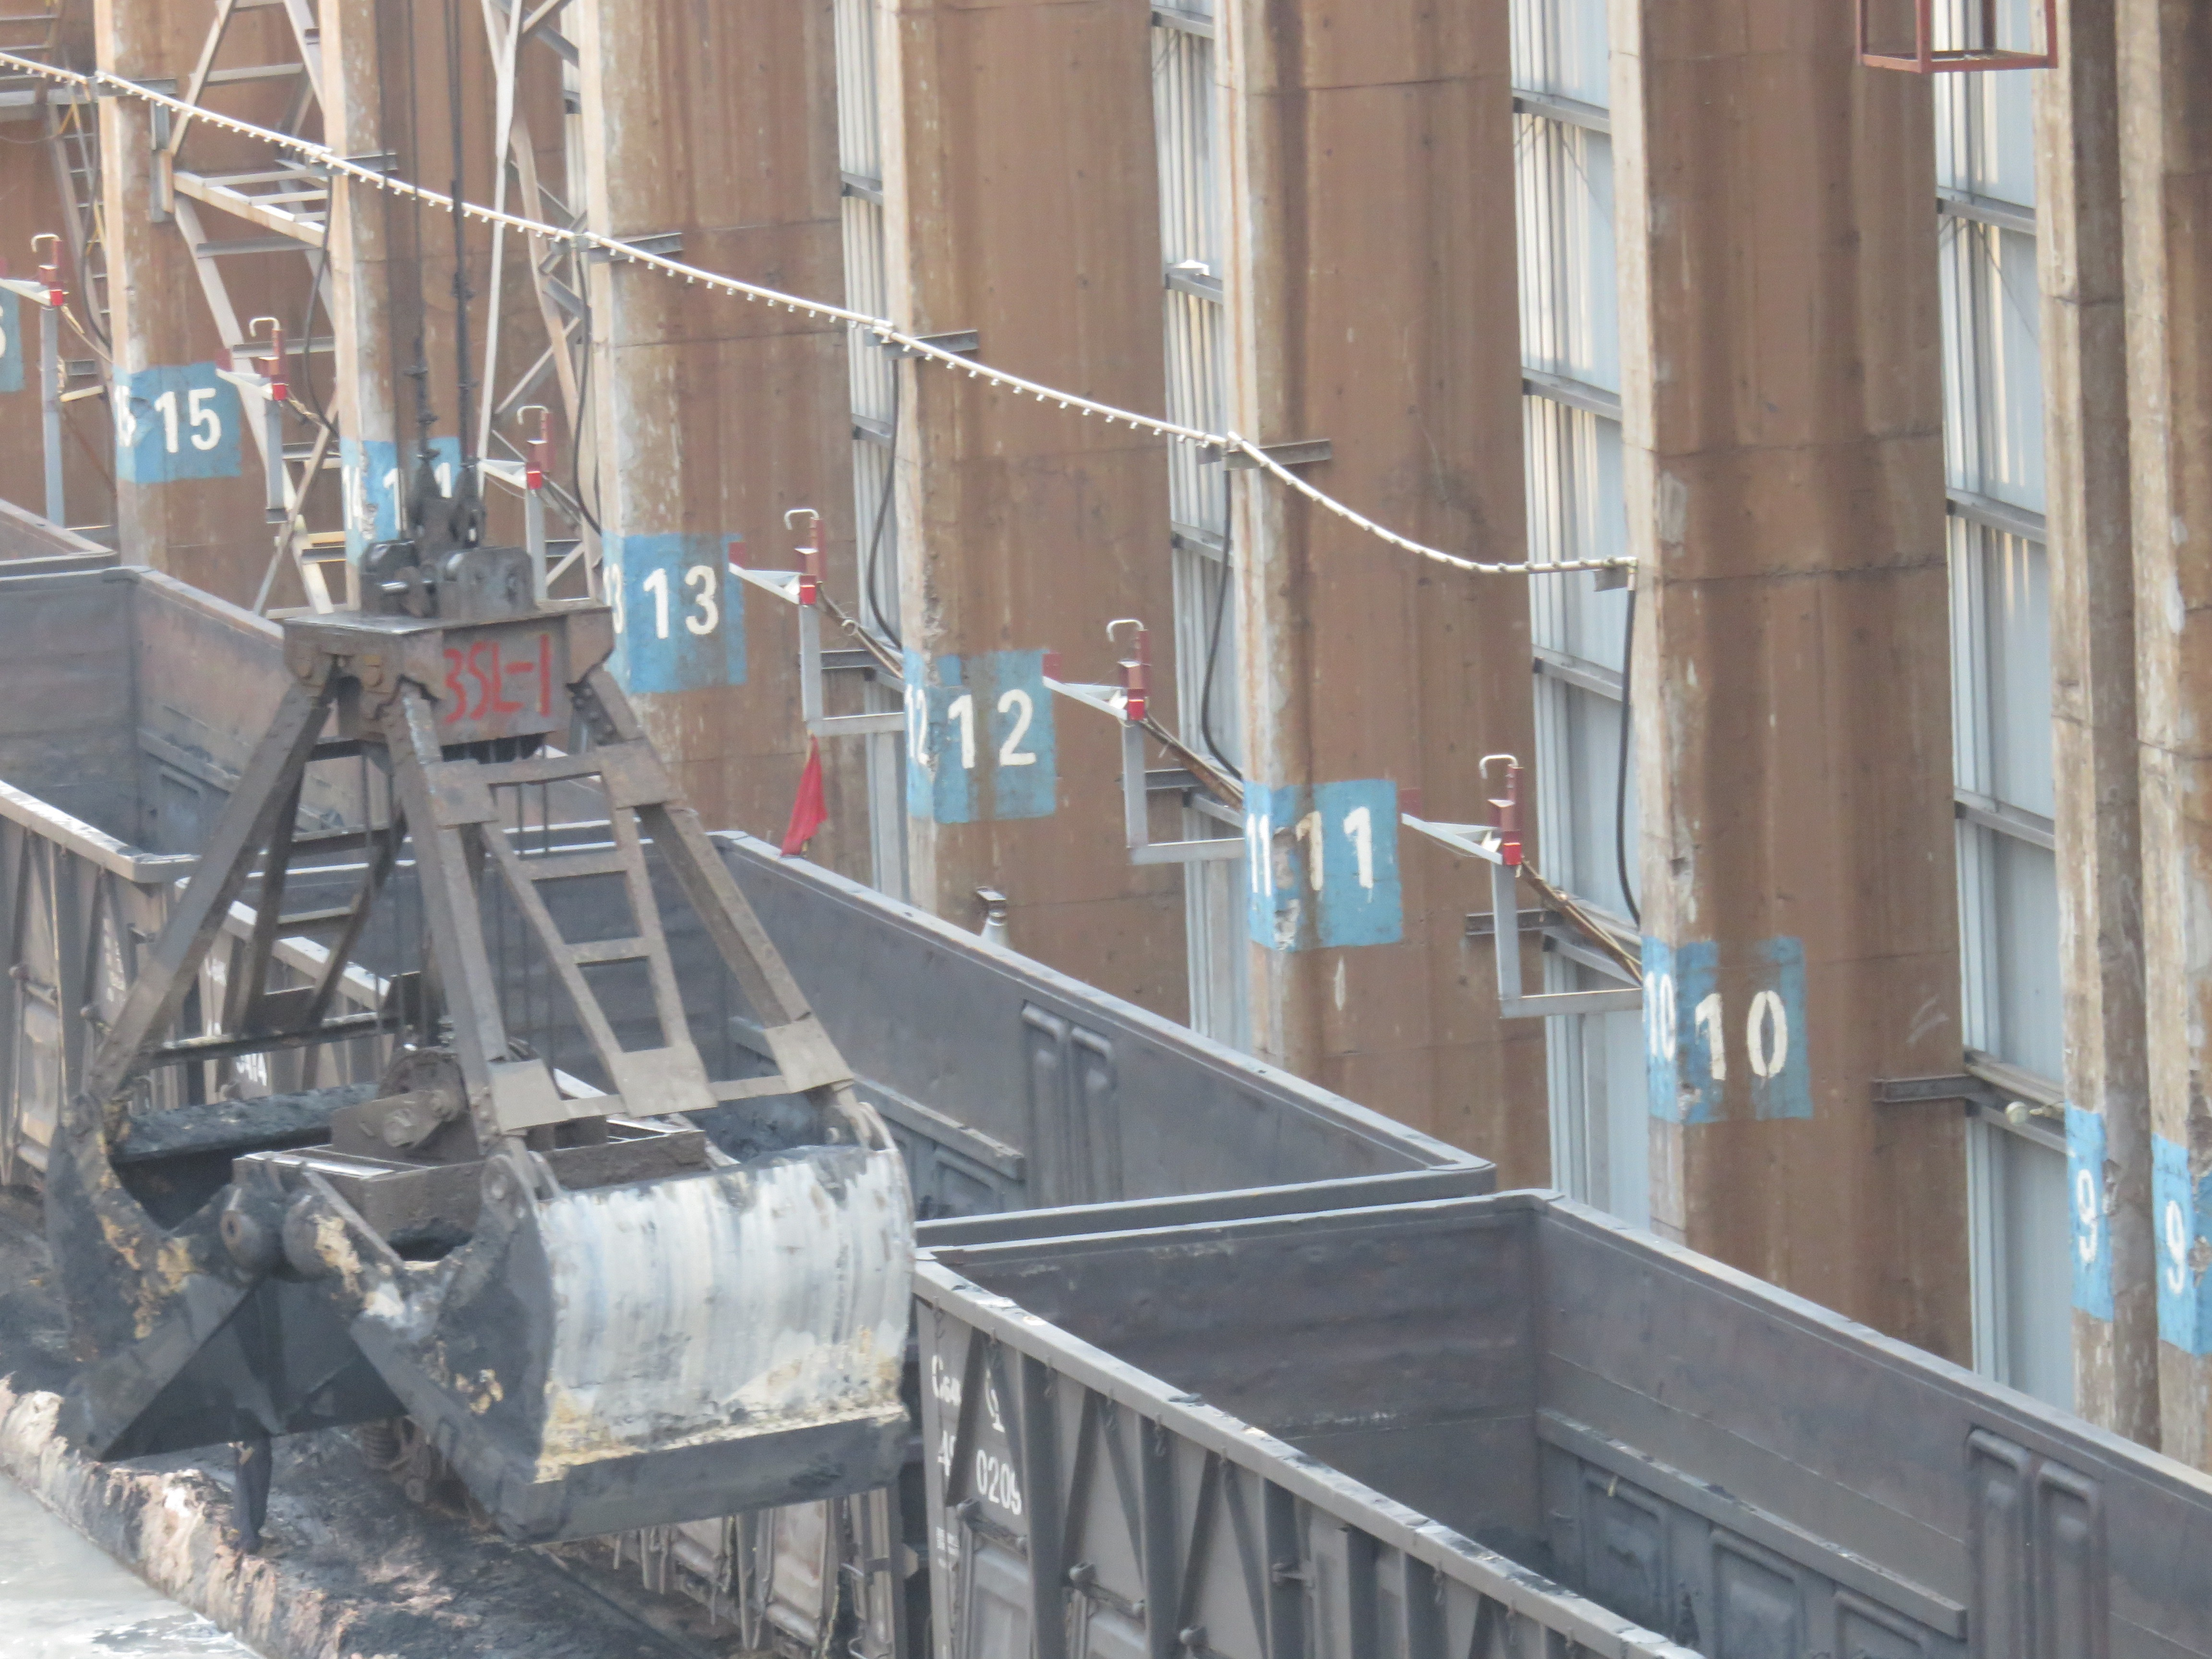grab: (49, 495, 941, 1558)
